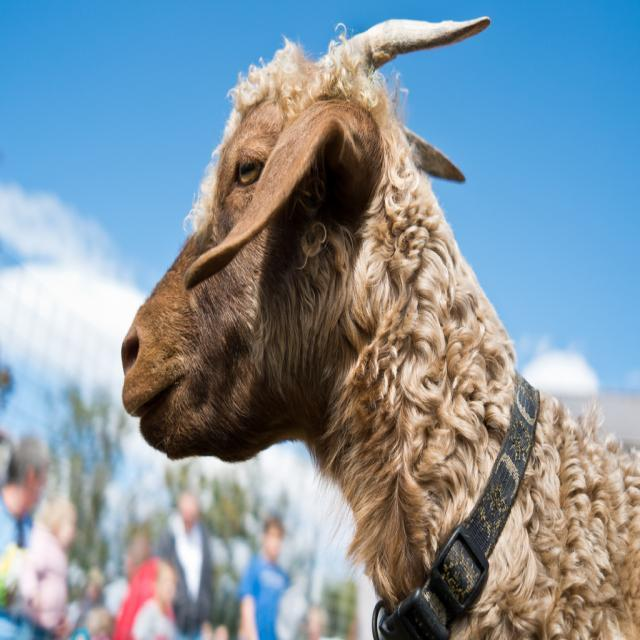Goat: (120, 14, 639, 638)
